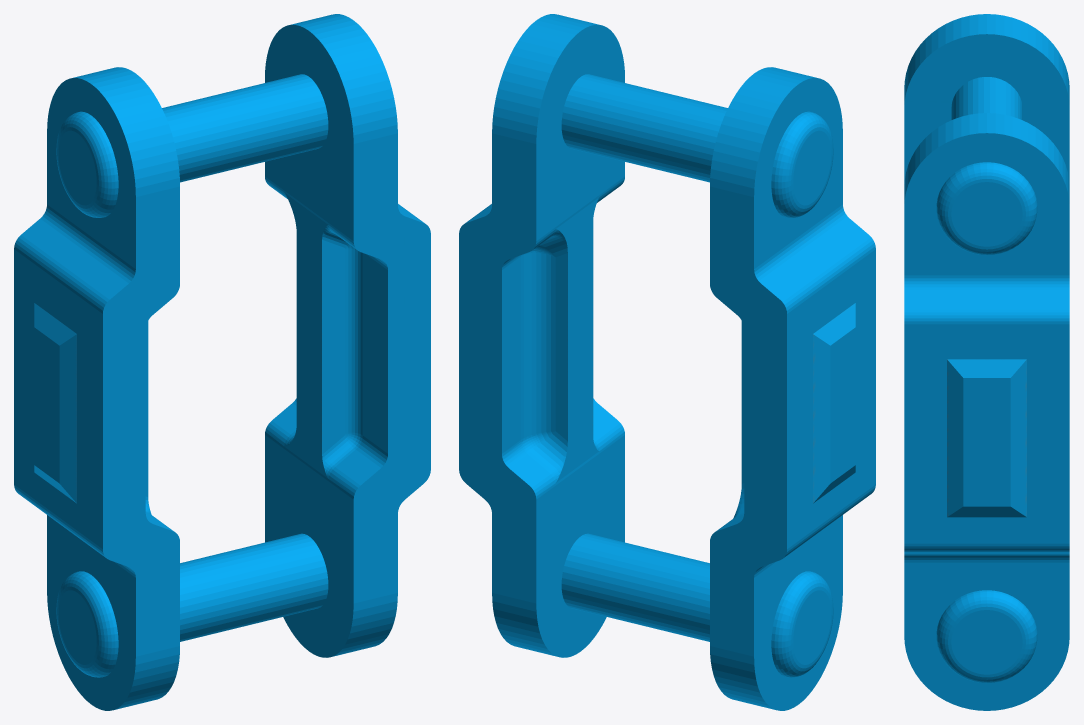
The model's file is chink1.glb.
3 renders of one model, left to right at view 1: azimuth 30°, elevation 25°; view 2: azimuth 150°, elevation 25°; view 3: azimuth 270°, elevation 25°, orthographic. The views are drawn at different scales.
Parts seen in each view (by area): view 1: node_id3; view 2: node_id3; view 3: node_id3.
Boxes of the visible parts, left/top/right/bottom form: node_id3: left=14, top=14, right=430, bottom=710; node_id3: left=459, top=14, right=875, bottom=710; node_id3: left=904, top=14, right=1069, bottom=710.
Bounding box in the file's own units: 0.3033 × 0.512 × 0.1329.
Materials: 1 (1 with a texture image).
